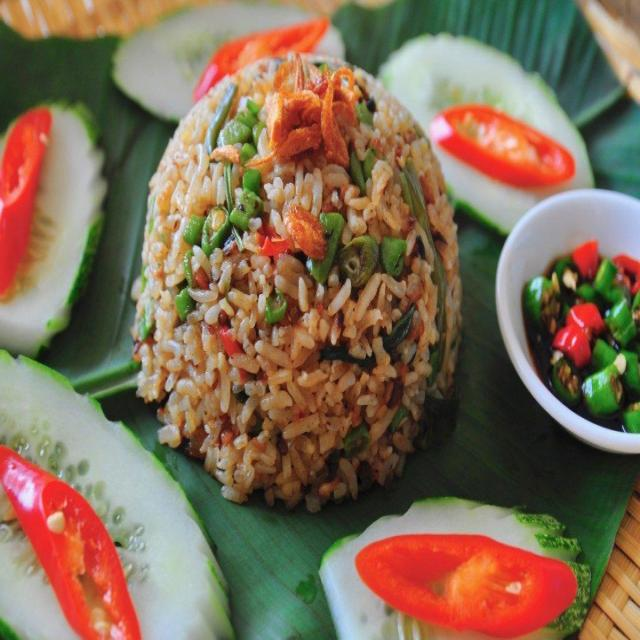Nasi Goreng: (130, 51, 463, 512)
